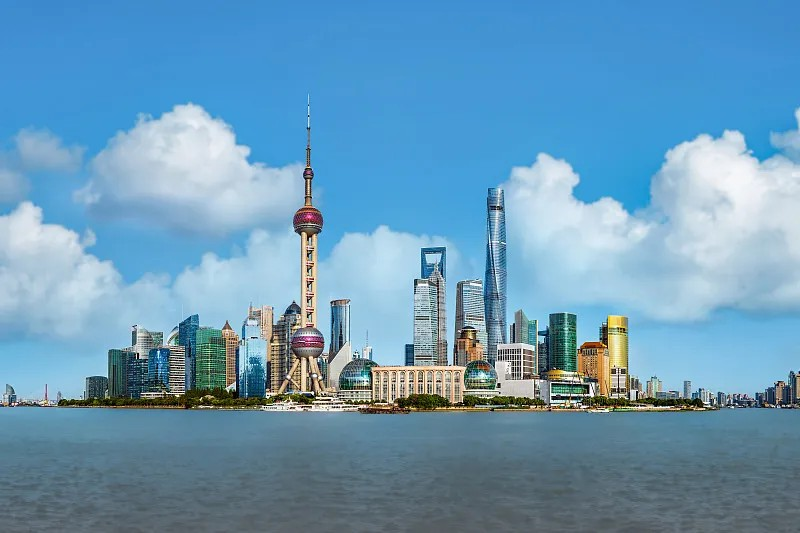Oriental: (278, 93, 325, 393)
